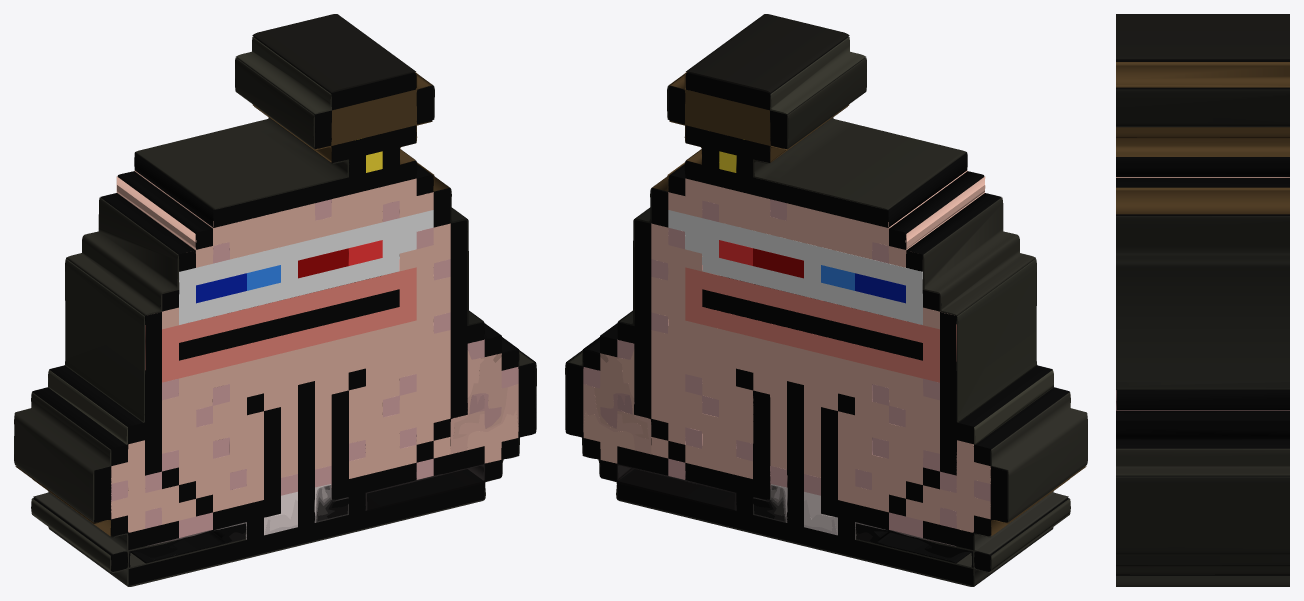
The model's file is Toadz_2862.glb.
3 views of the same model, side by side, from view 1: azimuth 30°, elevation 25°; view 2: azimuth 150°, elevation 25°; view 3: azimuth 270°, elevation 25° (orthographic). The views are drawn at different scales.
Parts seen in each view (by area): view 1: Curve; view 2: Curve; view 3: Curve.
Part boxes in pixels (x1=…): Curve: x1=14, y1=14, x2=536, y2=586; Curve: x1=565, y1=14, x2=1087, y2=586; Curve: x1=1116, y1=14, x2=1289, y2=586.
Bounding box in the file's own units: 3.25 × 3.13 × 1.
